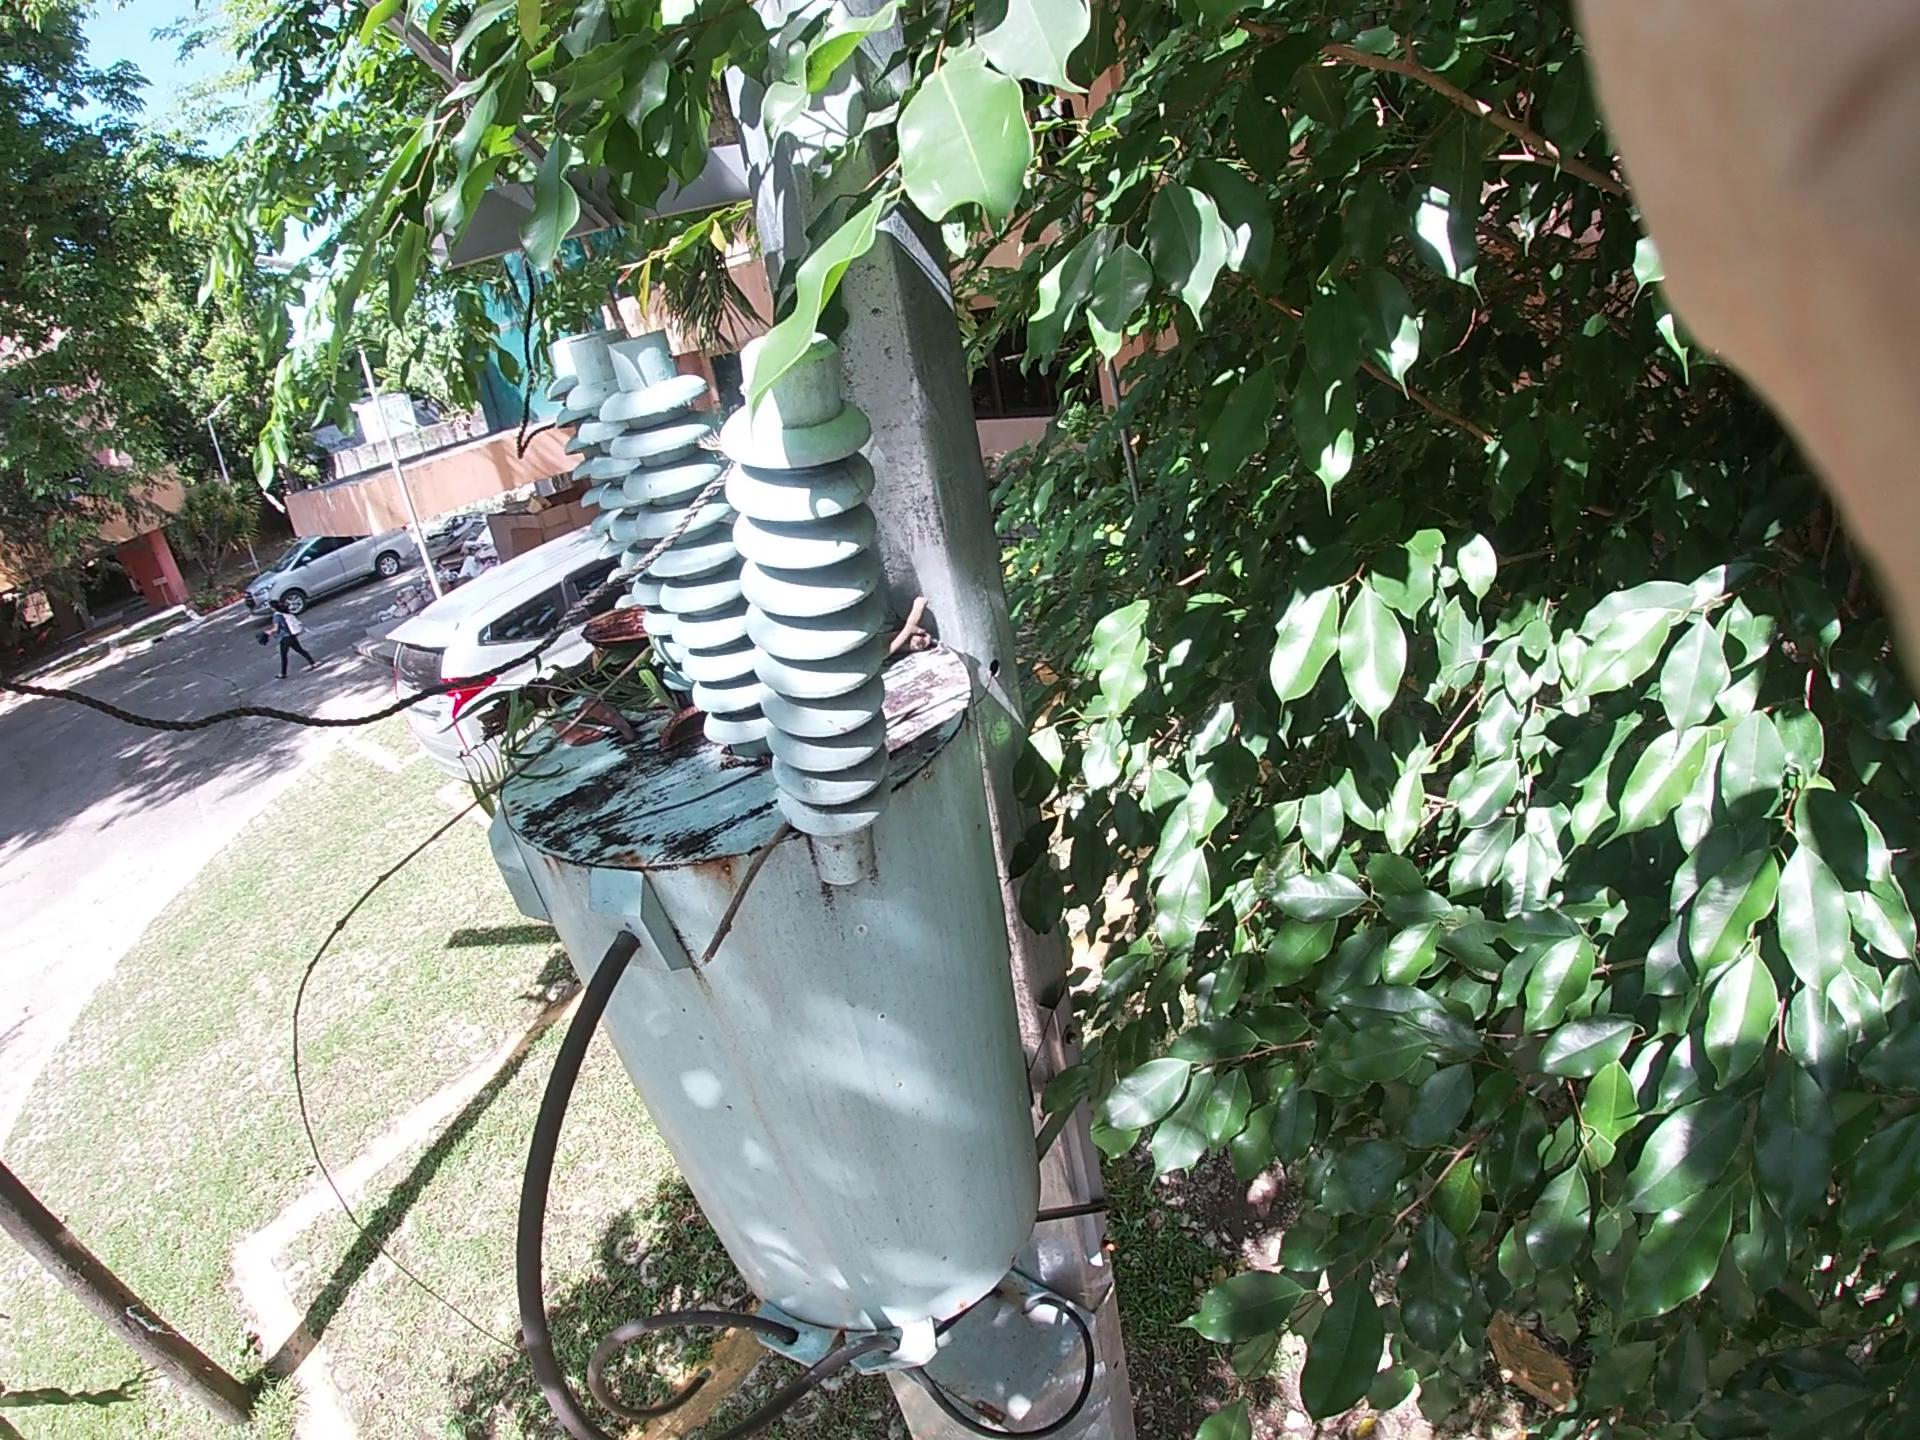branch with leaves: (490, 563, 741, 697)
leaf: (537, 682, 689, 797)
mahogany fruit: (562, 570, 665, 673), (643, 693, 757, 777)
tree branch: (212, 631, 652, 1195), (639, 777, 783, 1053), (862, 498, 1028, 726)
